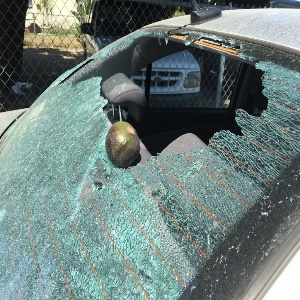rear_windshield_glass: (54, 38, 289, 191)
